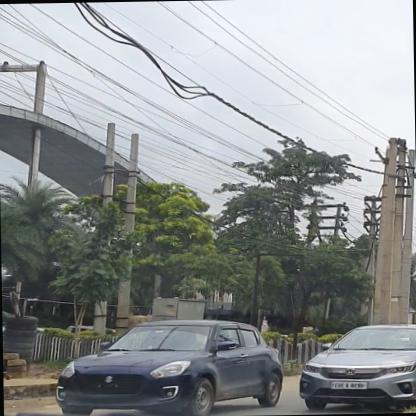car: (52, 318, 285, 415), (295, 321, 415, 415)
